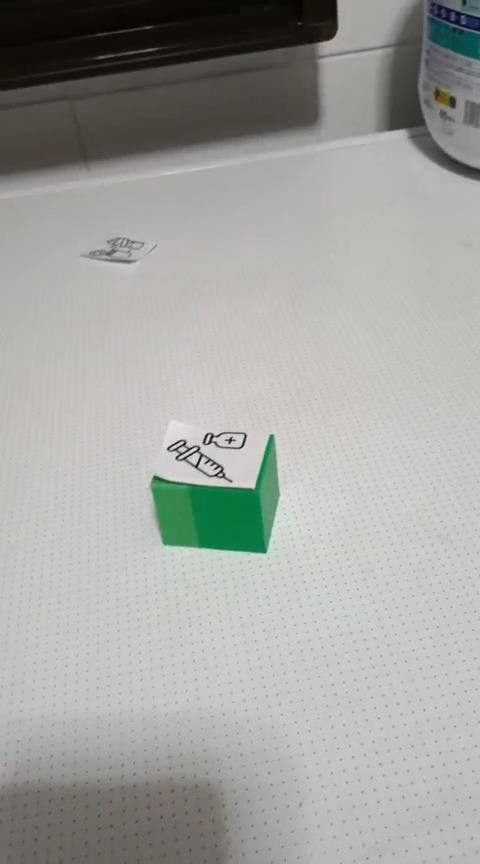antiseptic cream: (148, 418, 281, 554), (415, 0, 479, 171)
